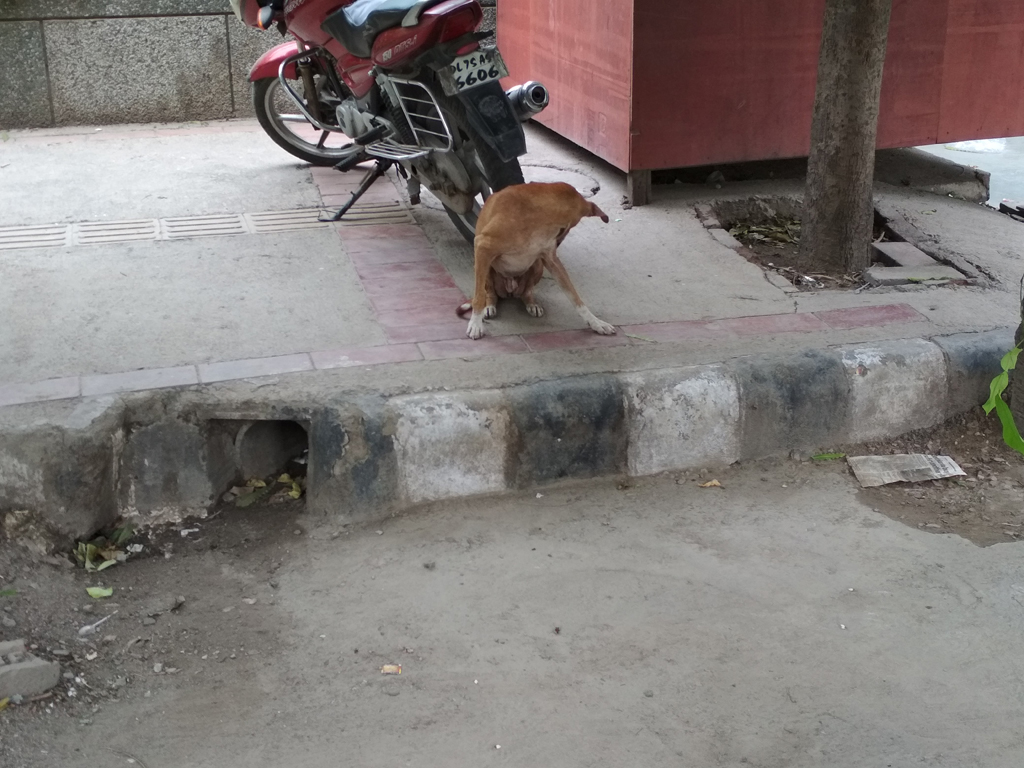dog: (457, 182, 616, 339)
